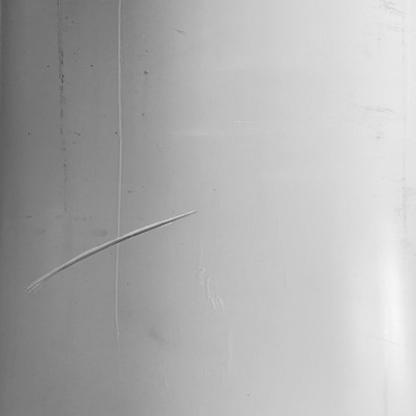sunshang: (21, 208, 198, 294)
